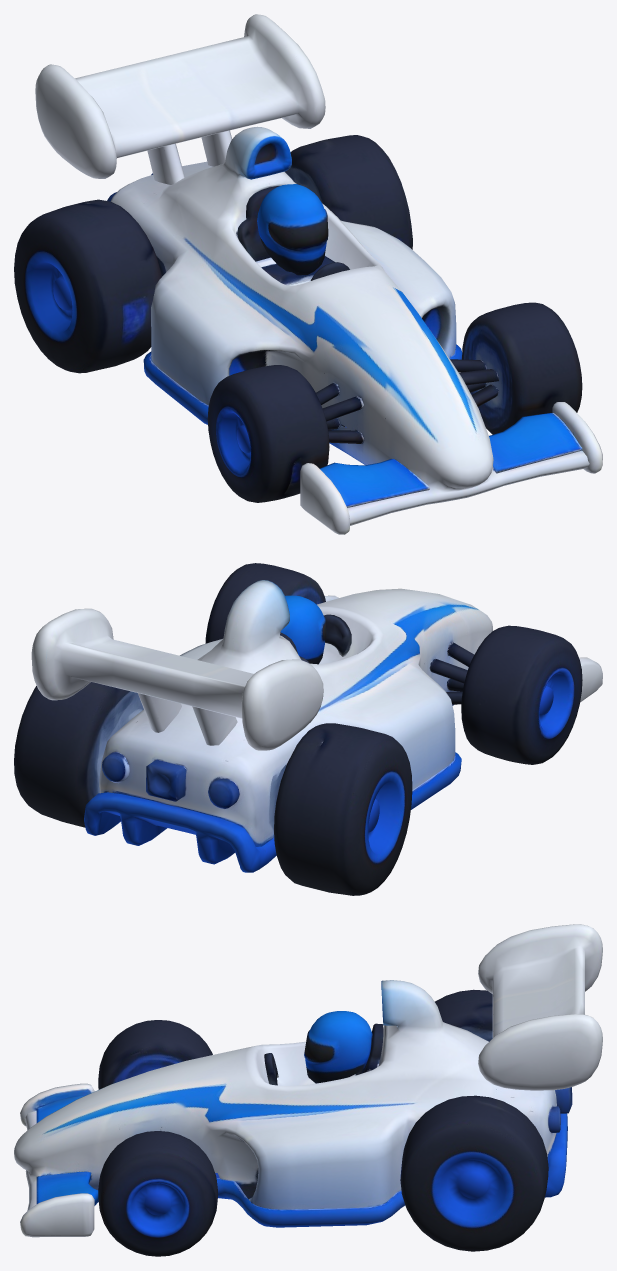
File: car-simsek.glb
3 views of the same model, one above another, from view 1: azimuth 30°, elevation 25°; view 2: azimuth 150°, elevation 25°; view 3: azimuth 270°, elevation 25° (orthographic). The views are drawn at different scales.
Visible parts, largest first — view 1: body, stock_spoiler; view 2: body, stock_spoiler; view 3: body, stock_spoiler.
Boxes of the visible parts, bbox=[...] form: body: bbox=[14, 126, 602, 534]; stock_spoiler: bbox=[35, 14, 325, 184]; body: bbox=[14, 563, 602, 895]; stock_spoiler: bbox=[31, 608, 323, 750]; body: bbox=[14, 980, 572, 1256]; stock_spoiler: bbox=[478, 924, 602, 1090].
Size of the model in its own units: 0.5923 by 0.4175 by 0.9995.
1 material, 1 textured.
